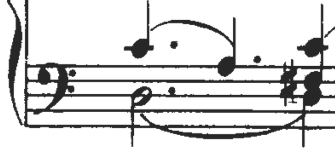bass_clef: (31, 52, 80, 118)
